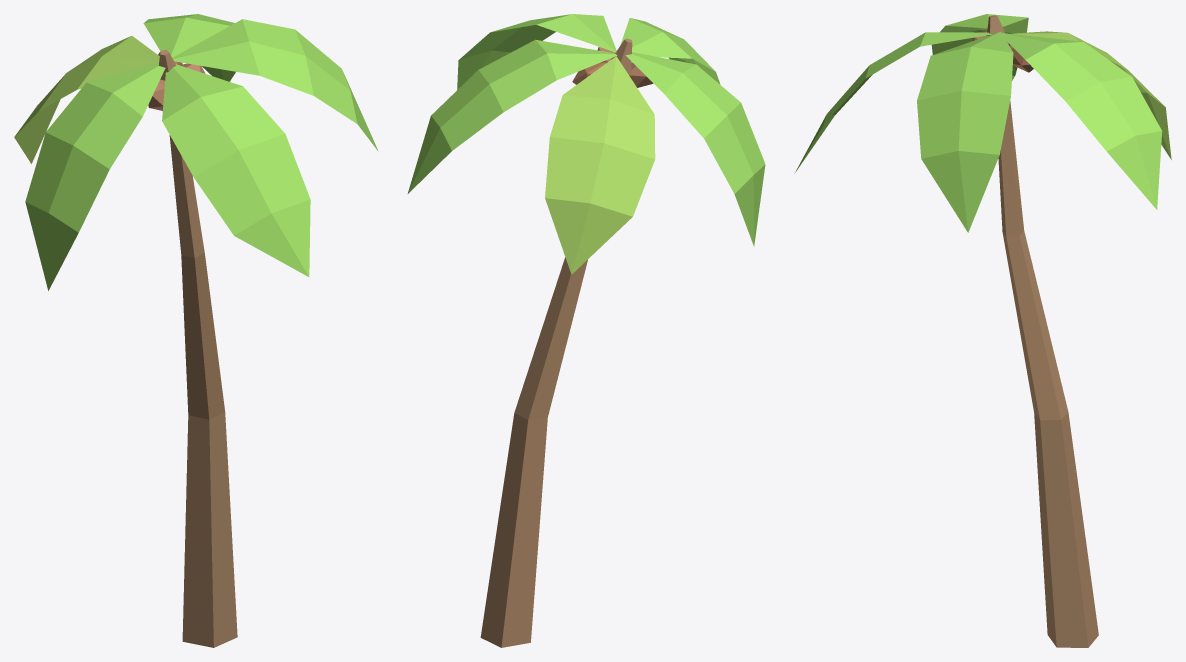
File: Palm_Tree_Coconut_s_06_LOD.fbx
3 views of the same model, side by side, from view 1: azimuth 30°, elevation 25°; view 2: azimuth 150°, elevation 25°; view 3: azimuth 270°, elevation 25° (orthographic). The views are drawn at different scales.
Parts seen in each view (by area): view 1: Palm_Tree_Coconut_s_06_LOD0; view 2: Palm_Tree_Coconut_s_06_LOD0; view 3: Palm_Tree_Coconut_s_06_LOD0.
Part boxes in pixels (x1,y1,x2,y2): Palm_Tree_Coconut_s_06_LOD0: (14,14,378,647); Palm_Tree_Coconut_s_06_LOD0: (407,14,765,647); Palm_Tree_Coconut_s_06_LOD0: (794,14,1171,647).
Size of what is drawn, in the model's own units: 211 by 393 by 229.
